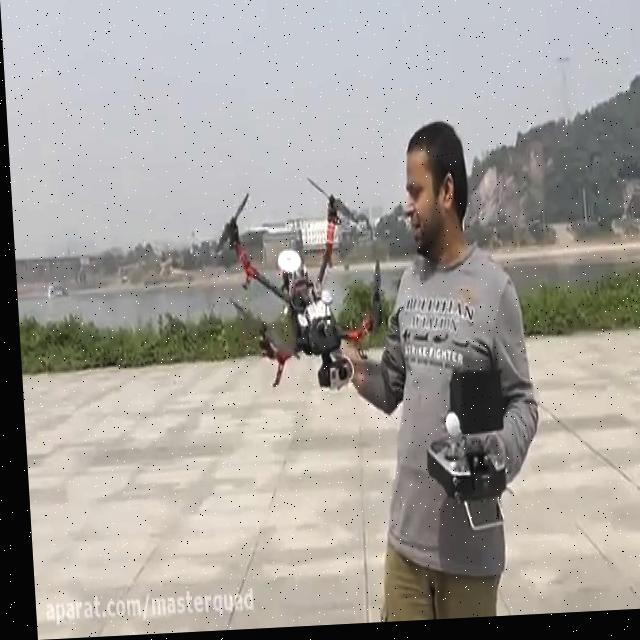drone: (203, 171, 388, 400)
